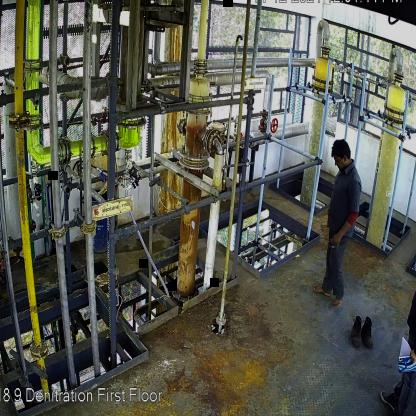no_shoes: (312, 280, 334, 300), (330, 295, 344, 307)
shoes: (363, 317, 375, 348), (351, 316, 361, 346)
